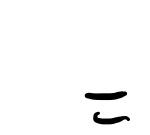eqv: (85, 90, 130, 125)
